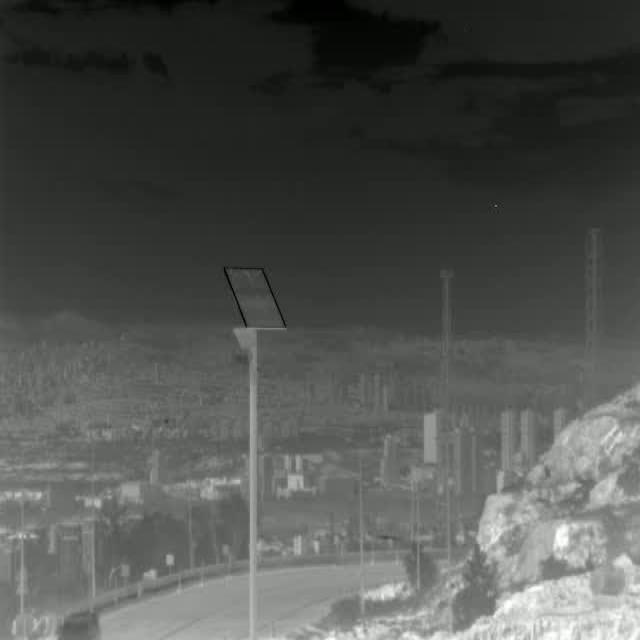Car: (58, 612, 102, 640)
